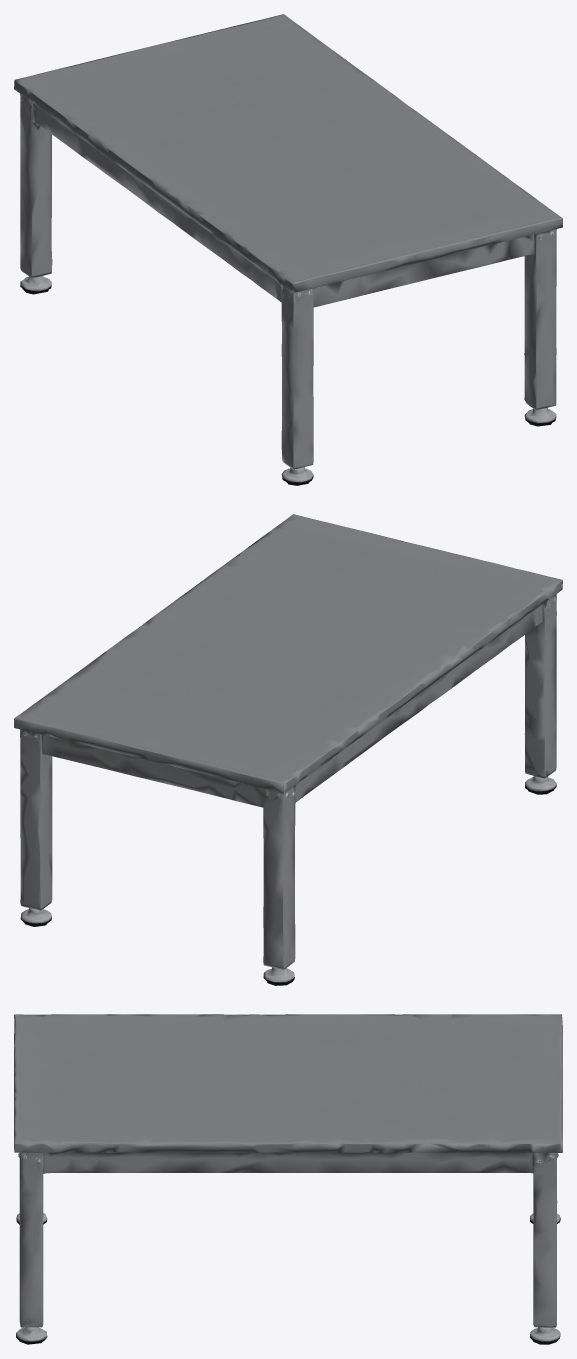
Rendered from training-table.glb.
3 views of the same model, one above another, from view 1: azimuth 30°, elevation 25°; view 2: azimuth 150°, elevation 25°; view 3: azimuth 270°, elevation 25° (orthographic).
Visible parts, largest first — view 1: tripo_node_49283ecd-1295-4a00-ba45-57072b2a8f3f; view 2: tripo_node_49283ecd-1295-4a00-ba45-57072b2a8f3f; view 3: tripo_node_49283ecd-1295-4a00-ba45-57072b2a8f3f.
Part boxes in pixels (box(x1,y1,x2,y2)): tripo_node_49283ecd-1295-4a00-ba45-57072b2a8f3f: box(14, 14, 562, 485); tripo_node_49283ecd-1295-4a00-ba45-57072b2a8f3f: box(14, 514, 562, 985); tripo_node_49283ecd-1295-4a00-ba45-57072b2a8f3f: box(14, 1014, 562, 1344).
Size of the model in its own units: 0.559 by 0.4079 by 1.
Materials: 1 (1 with a texture image).
